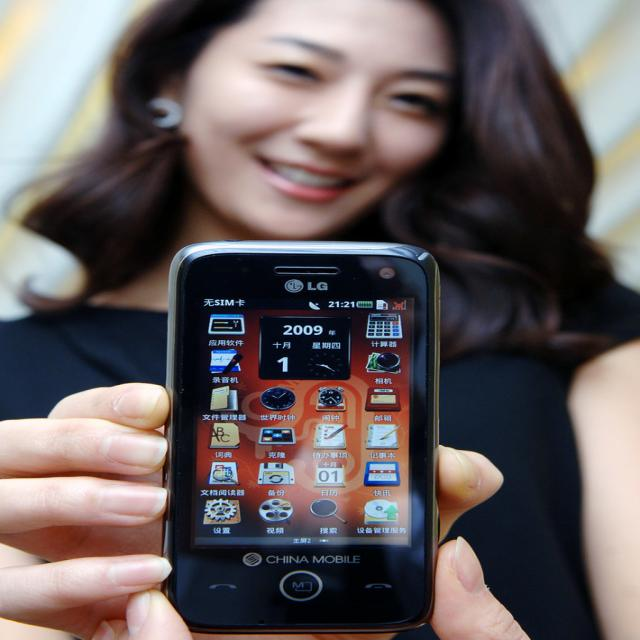Mobile-phone: (158, 223, 456, 640)
